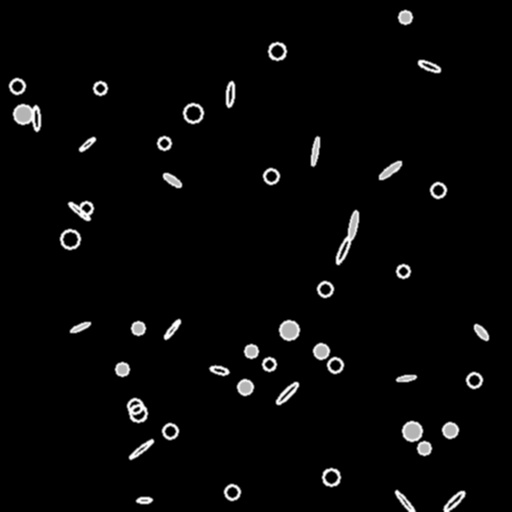pseudomonas: (274, 380, 300, 406), (377, 159, 403, 181), (128, 438, 154, 460), (334, 235, 352, 265), (394, 489, 416, 512), (443, 490, 465, 512), (67, 201, 91, 221), (347, 210, 359, 240), (163, 319, 181, 339), (472, 323, 490, 341), (162, 172, 182, 188), (418, 59, 440, 73), (78, 136, 96, 152), (310, 137, 320, 165), (209, 364, 229, 376), (70, 321, 90, 333), (226, 82, 234, 106), (32, 106, 40, 130), (397, 374, 415, 382), (136, 497, 152, 503)
synechocystis: (184, 104, 202, 122), (280, 321, 298, 339), (403, 422, 421, 440), (14, 105, 32, 123), (61, 230, 79, 248), (323, 469, 339, 485), (269, 43, 285, 59), (130, 405, 146, 421), (264, 169, 278, 183), (314, 344, 328, 358), (10, 79, 24, 93), (431, 183, 445, 197), (328, 358, 342, 372), (318, 282, 332, 296), (163, 424, 177, 438), (238, 380, 252, 394), (443, 423, 457, 437), (467, 373, 481, 387), (128, 399, 142, 413), (225, 485, 239, 499), (399, 11, 411, 23), (132, 322, 144, 334), (263, 358, 275, 370), (158, 137, 170, 149), (245, 345, 257, 357), (418, 442, 430, 454), (80, 202, 92, 214), (116, 363, 128, 375), (397, 265, 409, 277), (94, 82, 106, 94)
